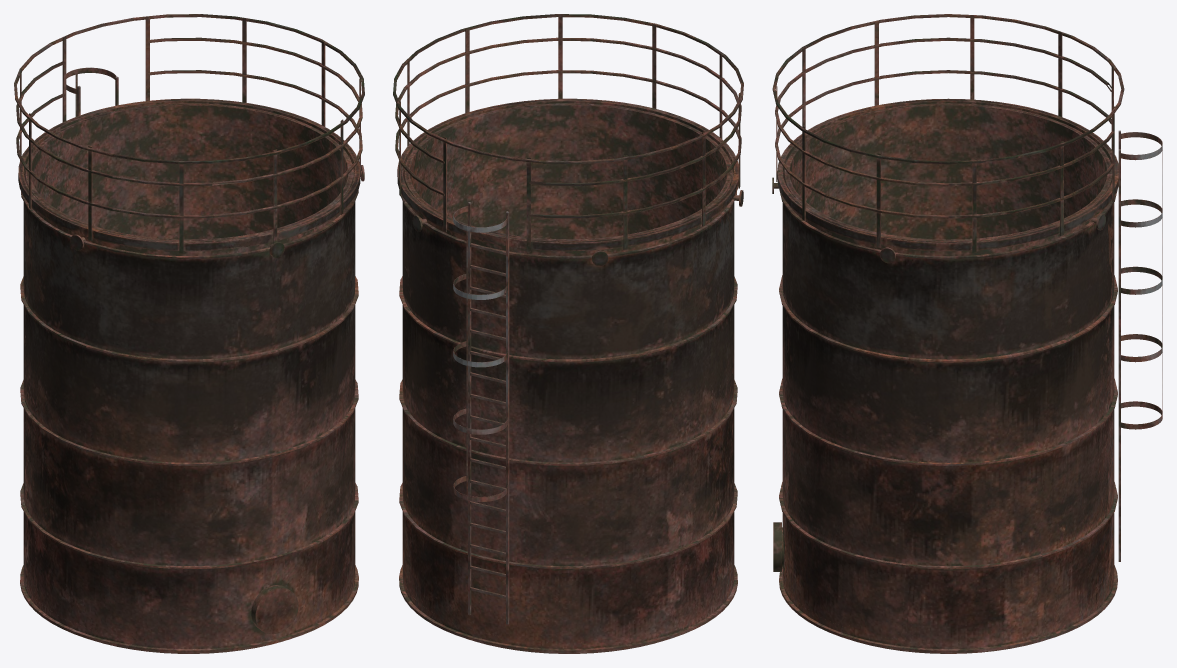
Rendered from rusted_tank_storage.glb.
3 views of the same model, side by side, from view 1: azimuth 30°, elevation 25°; view 2: azimuth 150°, elevation 25°; view 3: azimuth 270°, elevation 25° (orthographic).
Parts seen in each view (by area): view 1: STORAGE TANK.009; view 2: STORAGE TANK.009; view 3: STORAGE TANK.009.
Part boxes in pixels (box(x1,y1,x2,y2)): STORAGE TANK.009: box(14, 14, 364, 653); STORAGE TANK.009: box(393, 14, 743, 653); STORAGE TANK.009: box(772, 14, 1162, 653).
Bounding box in the file's own units: 2.12 × 3.32 × 2.36.
Materials: 1 (1 with a texture image).
